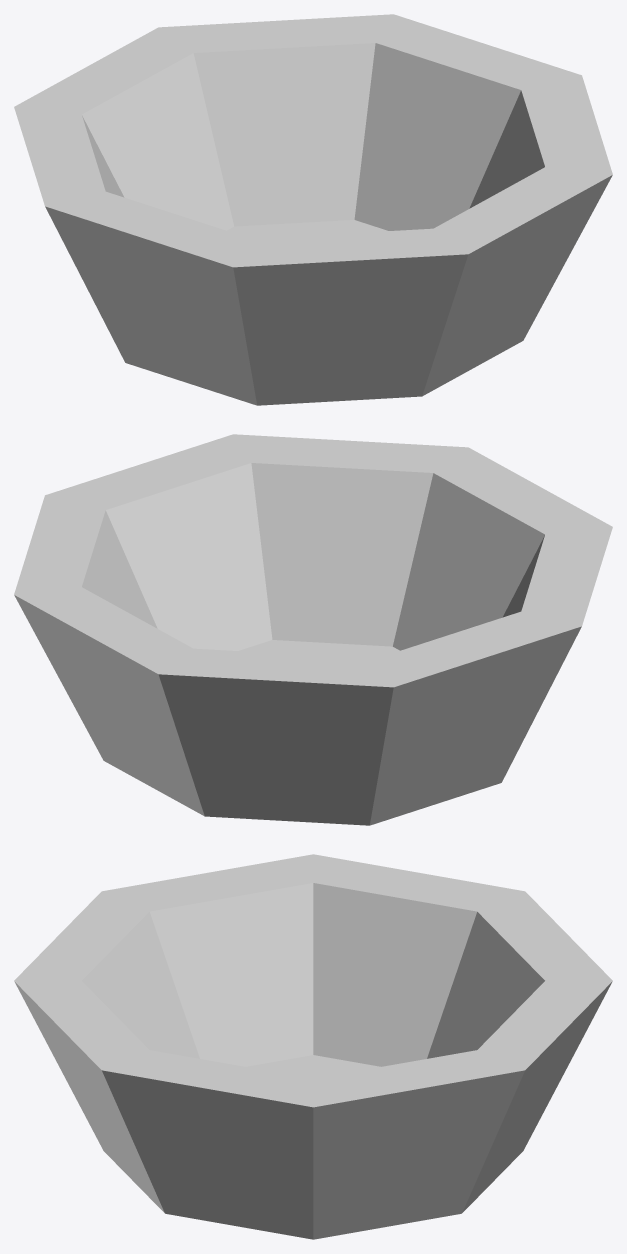
Rendered from bowl.glb.
3 views of the same model, one above another, from view 1: azimuth 30°, elevation 25°; view 2: azimuth 150°, elevation 25°; view 3: azimuth 270°, elevation 25° (orthographic). The views are drawn at different scales.
Visible parts, largest first — view 1: bowl; view 2: bowl; view 3: bowl.
Part boxes in pixels (box(x1,y1,x2,y2)): bowl: box(14, 14, 612, 405); bowl: box(14, 434, 612, 825); bowl: box(14, 854, 612, 1239).
Bounding box in the file's own units: 0.1148 × 0.036 × 0.1148.
Materials: 1 (1 with a texture image).
